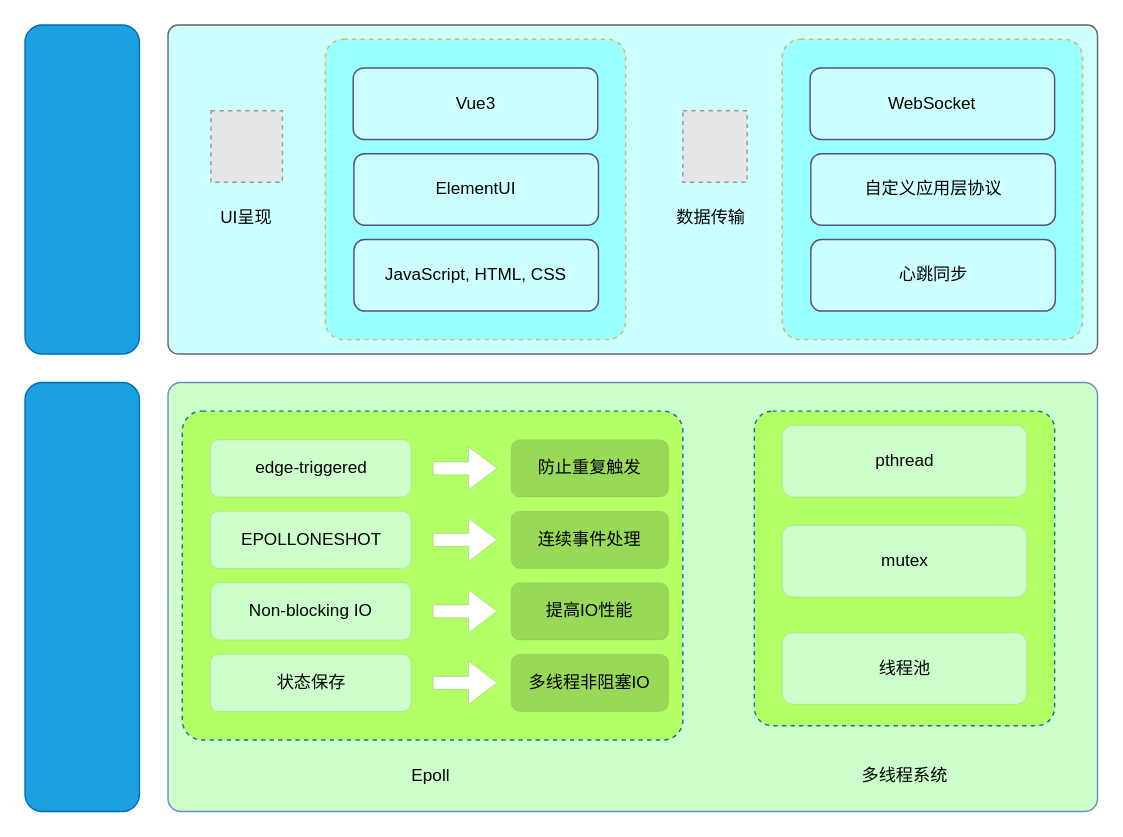
The diagram is 1123 pixels wide and 837 high, and some of its shapes have lost their labels. Grey dashed boxes stand in for pictures. Each missing label, with the centre of its shape:
"服务端" belongs at point (81, 596).
"游戏客户端" belongs at point (81, 189).
